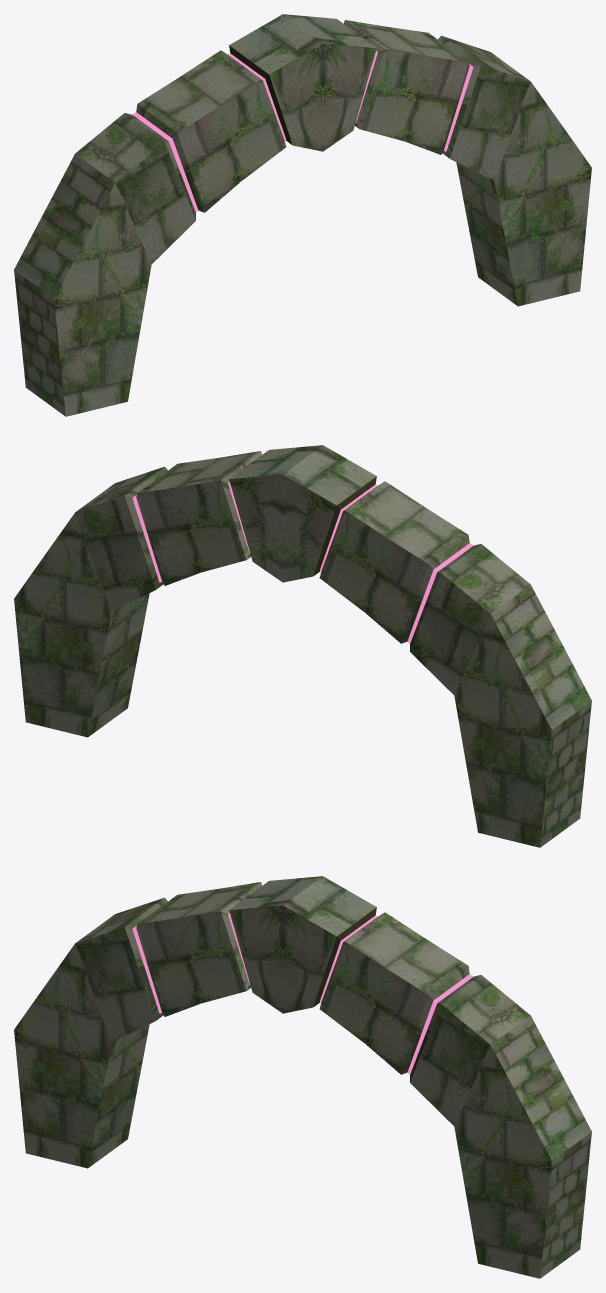
The model's file is Roof_Frm.glb.
The picture shows the model from 3 angles, top to bottom: view 1: azimuth 30°, elevation 25°; view 2: azimuth 150°, elevation 25°; view 3: azimuth 330°, elevation 25°; orthographic projection.
Visible parts, largest first — view 1: Plane.005; view 2: Plane.005; view 3: Plane.005.
Boxes of the visible parts, x1,y1,x2,y2 form: Plane.005: [14, 14, 591, 416]; Plane.005: [14, 445, 591, 847]; Plane.005: [14, 876, 591, 1278].
Size of the model in its own units: 20.16 by 11.13 by 2.6.
Materials: 2 (1 with a texture image).
